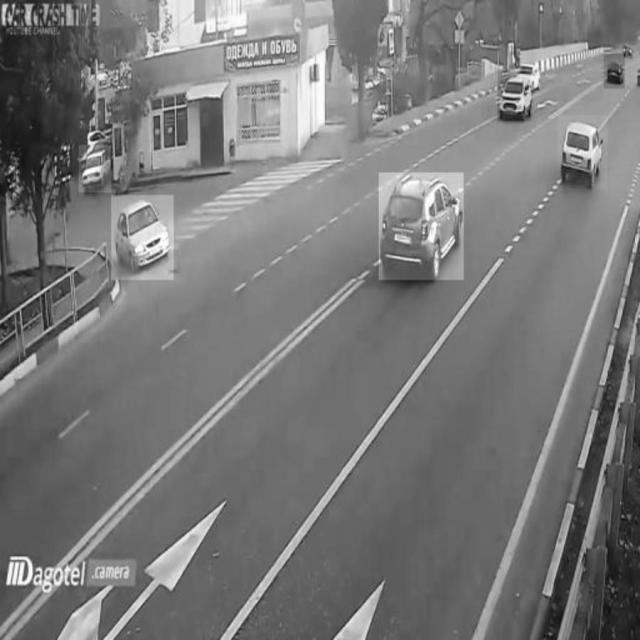vehicle: (379, 172, 463, 280), (111, 195, 173, 279), (558, 115, 608, 189), (497, 71, 531, 121), (80, 145, 112, 192), (604, 54, 624, 89)
